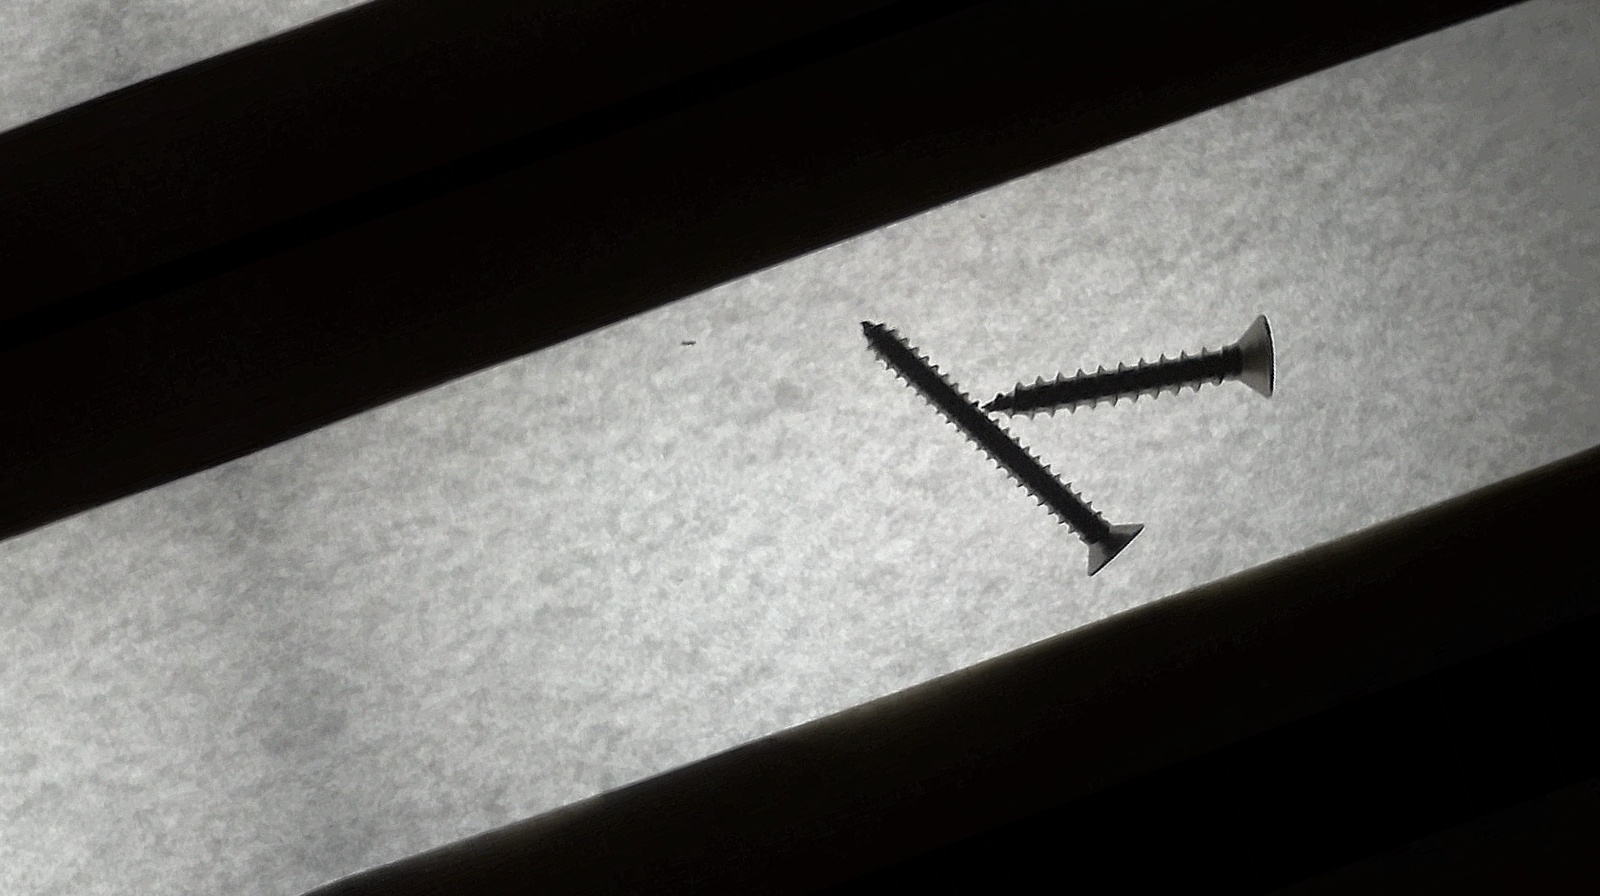S001: (963, 284, 1304, 501)
S002: (843, 239, 1162, 639)
